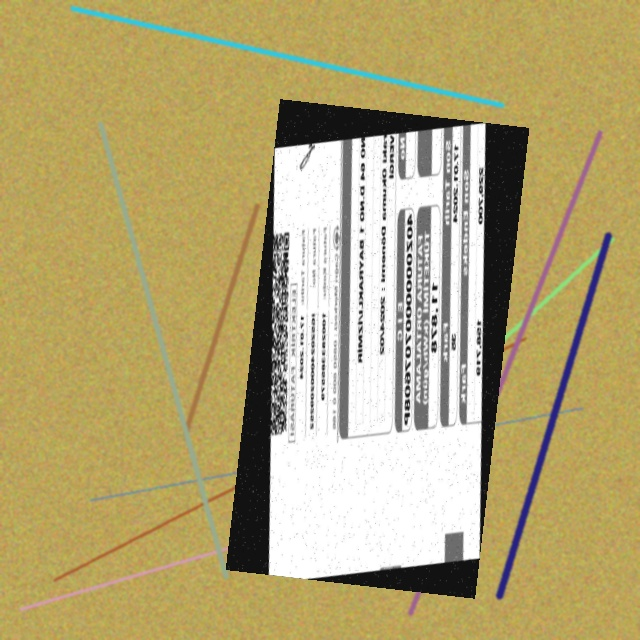electricity-bill: (226, 98, 529, 598)
